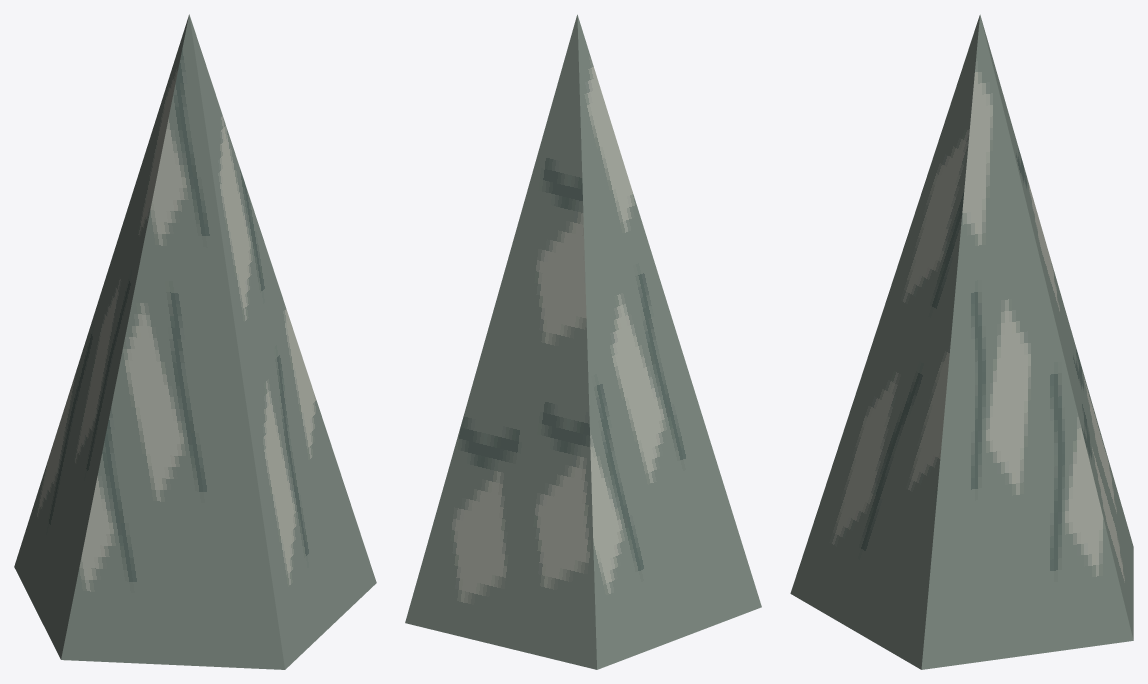
Rendered from pedra-agulha-v01.gltf.
3 renders of one model, left to right at view 1: azimuth 30°, elevation 25°; view 2: azimuth 150°, elevation 25°; view 3: azimuth 270°, elevation 25°, orthographic.
Visible parts, largest first — view 1: forma; view 2: forma; view 3: forma.
Boxes of the visible parts, box(x1,y1,x2,y2) form: forma: box(14, 14, 376, 669); forma: box(405, 14, 761, 669); forma: box(790, 14, 1133, 669).
Size of the model in its own units: 0.8179 by 1.45 by 0.7779.
1 material, 1 textured.
